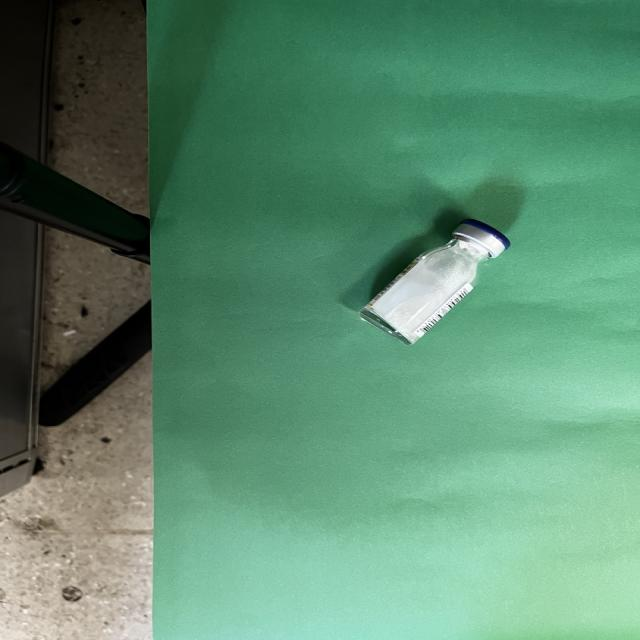Vials: (359, 220, 509, 344)
